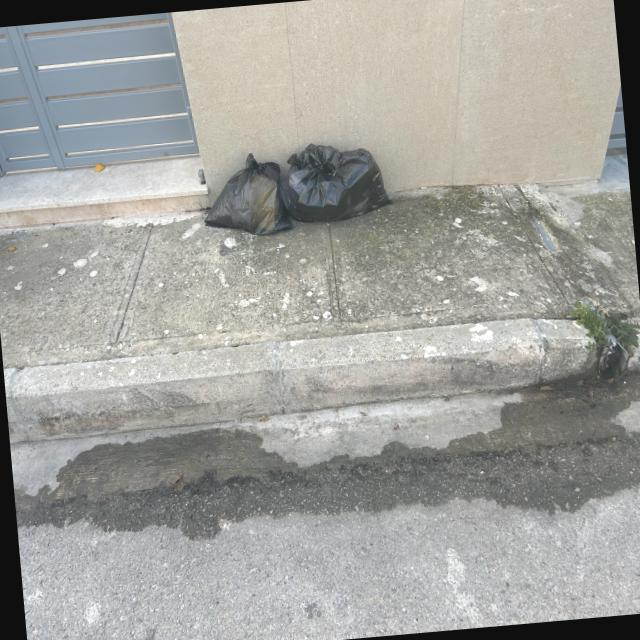black_bag: (278, 134, 395, 230), (196, 146, 294, 241)
